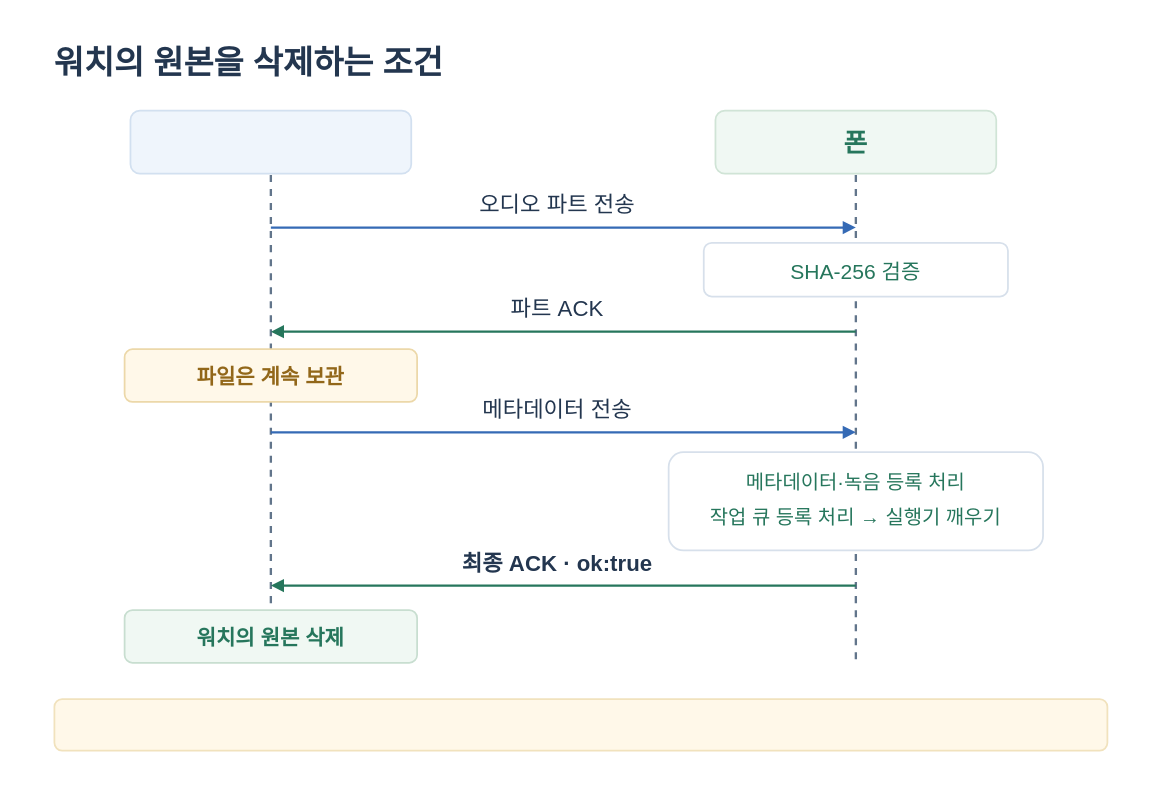
The diagram is 1162 pixels wide and 799 high, and some of its shapes have lost their labels. The shapes that lost their labels are listed below. From the top down, each one's centre as x and y in pixels, then its label:
the point at 270,141: 워치
the point at 580,724: 최종 ACK가 없으면 원본을 남겨 두고 재전송한다.
